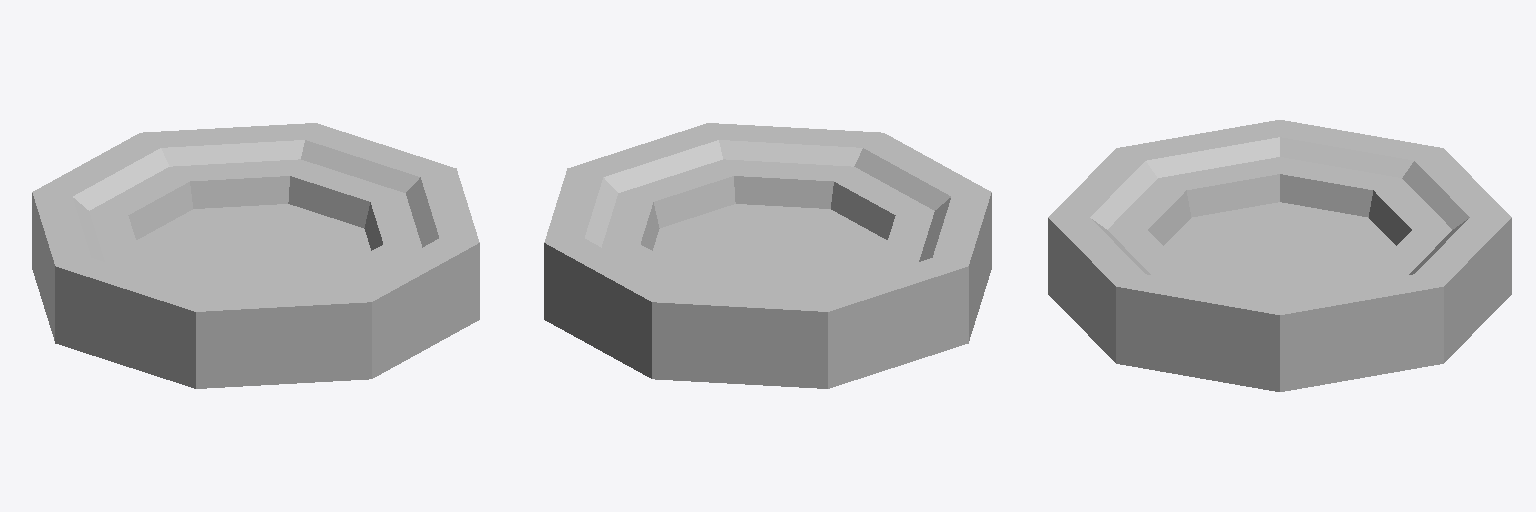
The model's file is Coin_V2_UI.obj.
The picture shows the model from 3 angles: view 1: azimuth 30°, elevation 25°; view 2: azimuth 150°, elevation 25°; view 3: azimuth 270°, elevation 25°; orthographic projection.
Parts seen in each view (by area): view 1: Coin; view 2: Coin; view 3: Coin.
Part boxes in pixels (bbox=[...]): Coin: bbox=[32, 123, 479, 388]; Coin: bbox=[544, 123, 991, 388]; Coin: bbox=[1048, 120, 1511, 391].
Bounding box in the file's own units: 2 × 0.3671 × 2.